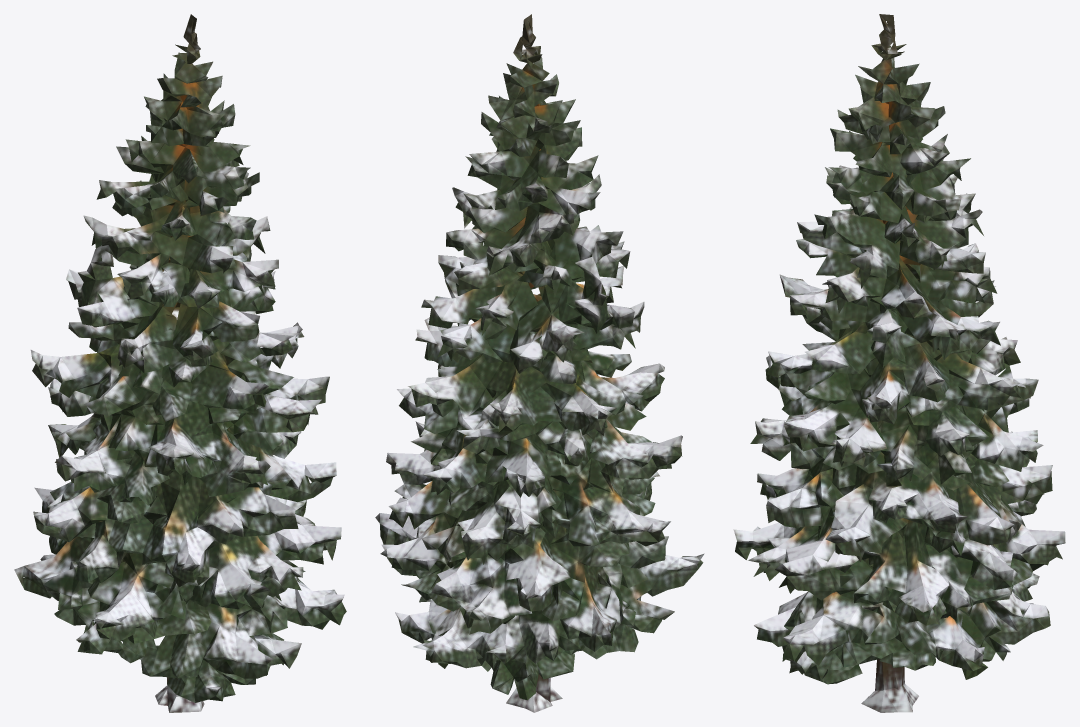
File: spruce_snow_full.obj
The picture shows the model from 3 angles, left to right: view 1: azimuth 30°, elevation 25°; view 2: azimuth 150°, elevation 25°; view 3: azimuth 270°, elevation 25°; orthographic projection. The views are drawn at different scales.
Visible parts, largest first — view 1: spruce_snow; view 2: spruce_snow; view 3: spruce_snow.
Boxes of the visible parts, bbox=[...] form: spruce_snow: bbox=[14, 14, 346, 712]; spruce_snow: bbox=[375, 14, 704, 712]; spruce_snow: bbox=[733, 14, 1065, 712].
Size of the model in its own units: 5.25 by 12 by 5.2.
